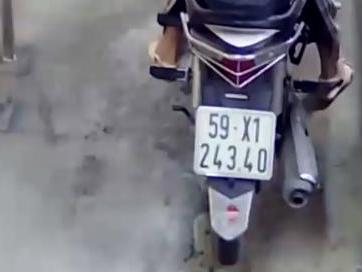num_plate: (194, 105, 276, 181)
